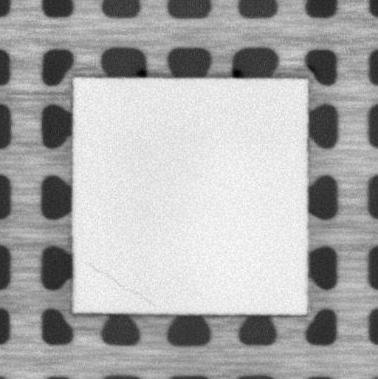DIE_CRACK: (82, 260, 157, 309)
